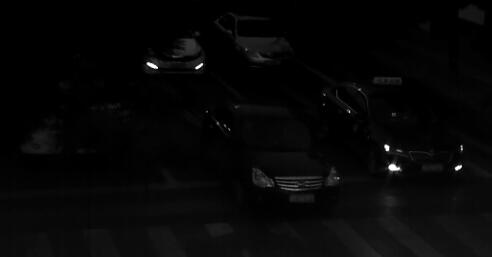car: (317, 75, 470, 178), (207, 102, 342, 209), (128, 5, 207, 78), (214, 8, 304, 67)
